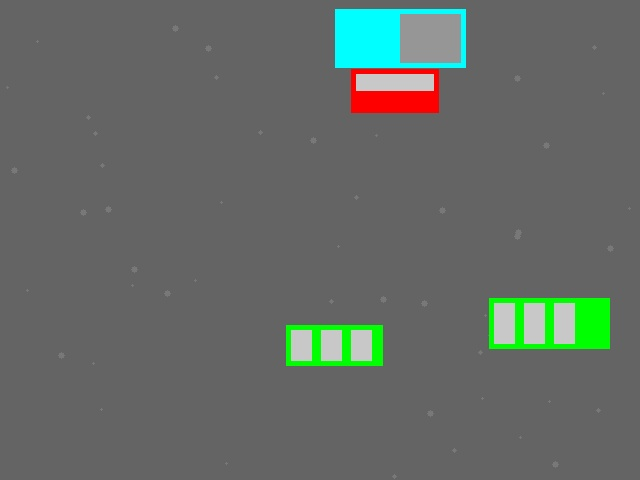bus: (489, 298, 609, 348), (286, 325, 382, 365)
car: (351, 69, 438, 112)
truck: (335, 9, 465, 67)
